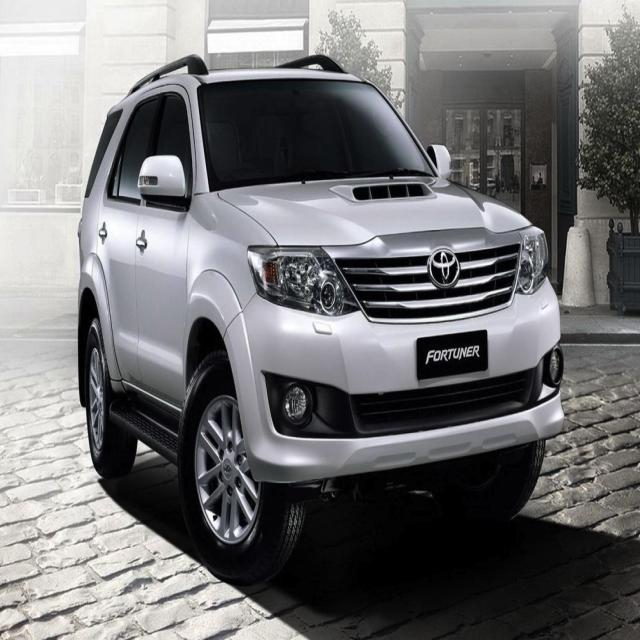light_vehicle: (75, 52, 566, 587)
